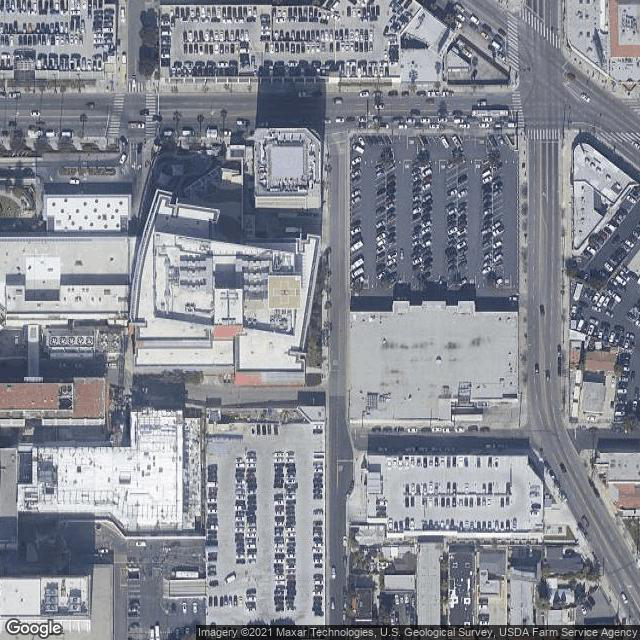Helipad: (268, 274, 302, 310)
